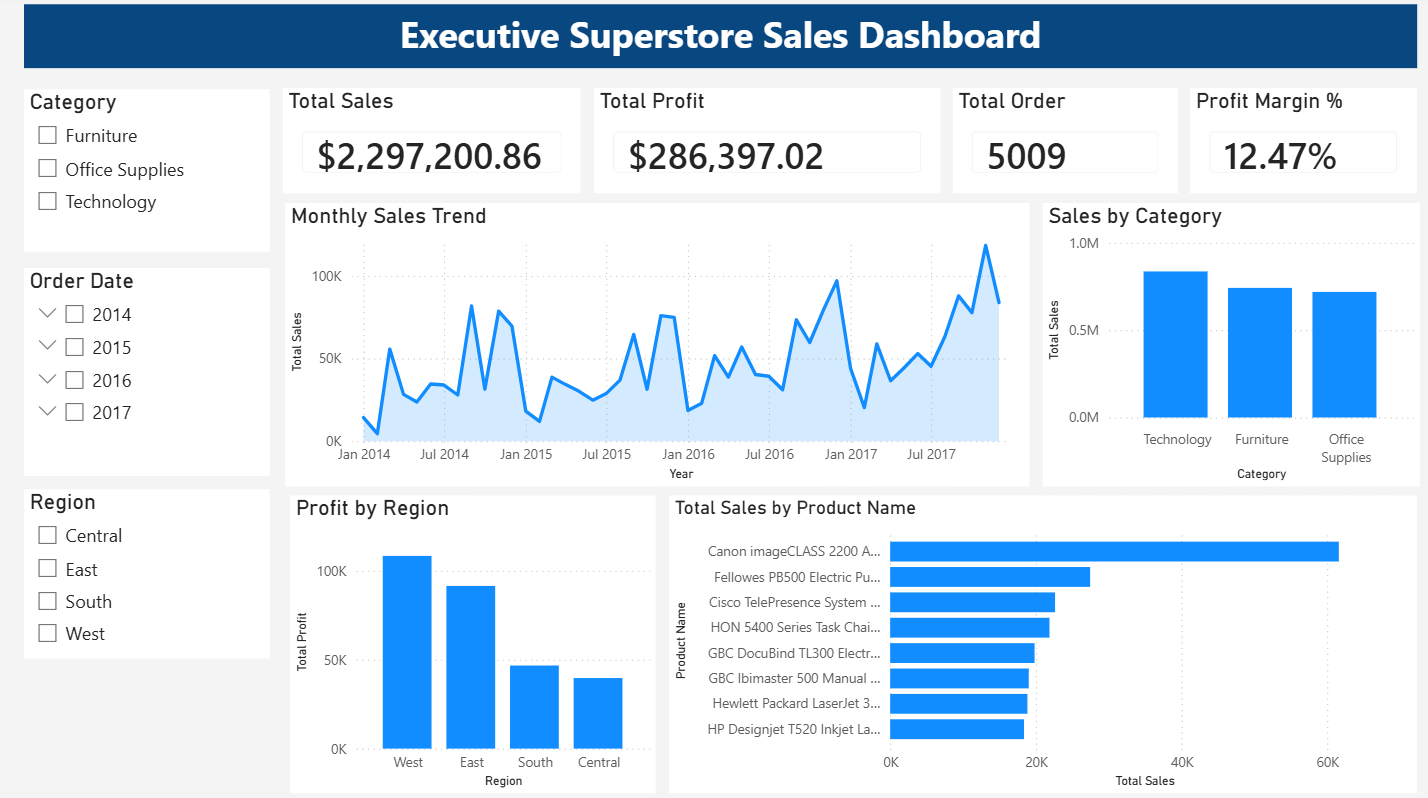

This screenshot's page, from the dashboard's own definition file:
{"tool":"powerbi","page":{"name":"Page 1","canvas":[1280,720],"ordinal":0},"visuals":[{"type":"cardVisual","title":"Total Sales","fields":{"Data":["Superstore.Total Sales"]},"box":[256.7,84.6,265,93.3],"z":0},{"type":"cardVisual","title":"Total Profit","fields":{"Data":["Superstore.Total Profit"]},"box":[533.3,84.6,308.3,93.3],"z":1000},{"type":"cardVisual","title":"Total Order","fields":{"Data":["Superstore.Total Orders"]},"box":[851.7,84.6,200,93.3],"z":2000},{"type":"lineChart","title":"Monthly Sales Trend","fields":{"Y":["Superstore.Total Sales"],"Category":["Superstore.Order Date.Variation.Date Hierarchy.Year","Superstore.Order Date.Variation.Date Hierarchy.Month"]},"box":[258.3,186.7,661.7,251.7],"z":3000},{"type":"clusteredColumnChart","title":"Sales by Category","fields":{"Category":["Superstore.Category"],"Y":["Superstore.Total Sales"]},"box":[931.7,186.7,335,251.7],"z":4000},{"type":"cardVisual","title":"Profit Margin %","fields":{"Data":["Superstore.Profit Margin %"]},"box":[1063.3,84.6,201.7,93.3],"z":5000},{"type":"clusteredColumnChart","title":"Profit by Region","fields":{"Category":["Superstore.Region"],"Y":["Superstore.Total Profit"]},"box":[263.3,446.7,325,265],"z":6000},{"type":"clusteredBarChart","fields":{"Category":["Superstore.Product Name"],"Y":["Superstore.Total Sales"]},"box":[600,446.7,665,265],"z":7000},{"type":"slicer","title":"Category","fields":{"Values":["Superstore.Category"]},"box":[26.7,85.7,218.3,145],"z":8000},{"type":"slicer","title":"Region","fields":{"Values":["Superstore.Region"]},"box":[26.7,440.7,218.3,150],"z":9000},{"type":"textbox","box":[26.7,10,1238.3,56.7],"z":10000},{"type":"slicer","title":"Order Date","fields":{"Values":["Superstore.Order Date.Variation.Date Hierarchy.Year","Superstore.Order Date.Variation.Date Hierarchy.Month"]},"box":[26.7,244.1,218.3,185],"z":11000}]}

Visuals, with their boxes in screenshot pixels (x1, y1, x2, y2), scaled from the page's 1280x720 canvas onto the 1428x798 screenshot:
"Total Sales" cardVisual: {"x1": 286, "y1": 94, "x2": 582, "y2": 197}
"Total Profit" cardVisual: {"x1": 595, "y1": 94, "x2": 939, "y2": 197}
"Total Order" cardVisual: {"x1": 950, "y1": 94, "x2": 1173, "y2": 197}
"Monthly Sales Trend" lineChart: {"x1": 288, "y1": 207, "x2": 1026, "y2": 486}
"Sales by Category" clusteredColumnChart: {"x1": 1039, "y1": 207, "x2": 1413, "y2": 486}
"Profit Margin %" cardVisual: {"x1": 1186, "y1": 94, "x2": 1411, "y2": 197}
"Profit by Region" clusteredColumnChart: {"x1": 294, "y1": 495, "x2": 656, "y2": 789}
clusteredBarChart - Superstore.Product Name x Superstore.Total Sales: {"x1": 669, "y1": 495, "x2": 1411, "y2": 789}
"Category" slicer: {"x1": 30, "y1": 95, "x2": 273, "y2": 256}
"Region" slicer: {"x1": 30, "y1": 488, "x2": 273, "y2": 655}
textbox: {"x1": 30, "y1": 11, "x2": 1411, "y2": 74}
"Order Date" slicer: {"x1": 30, "y1": 271, "x2": 273, "y2": 476}
